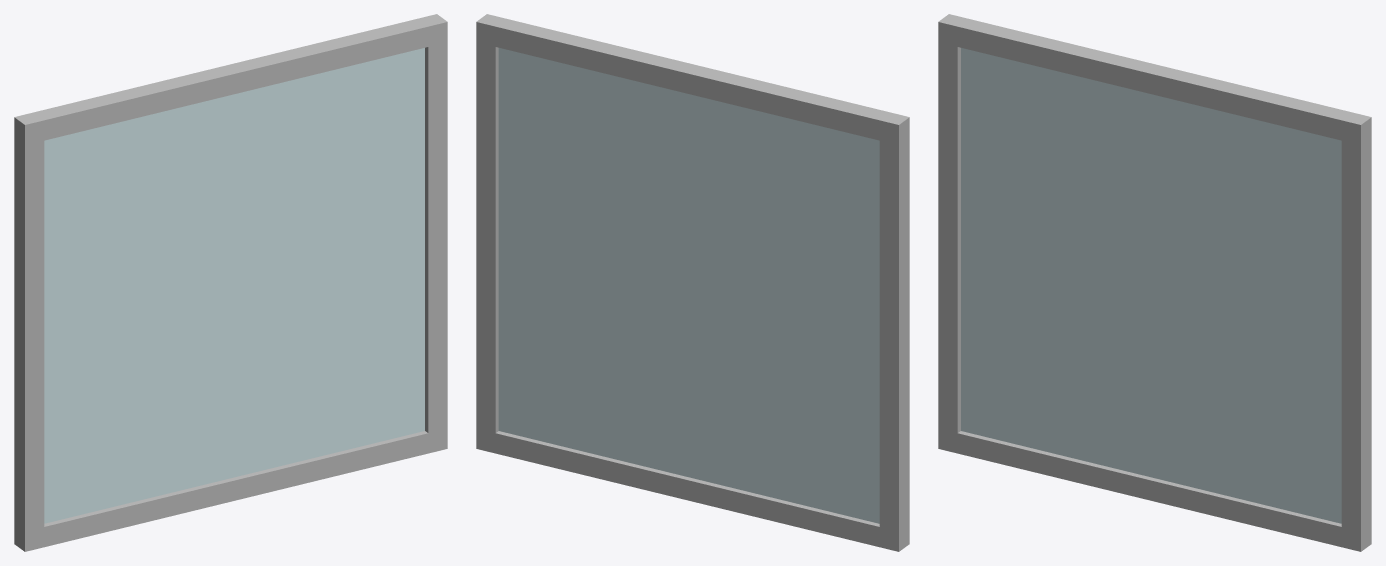
File: Itr_Obj_Grandfatherclock2_Glass_Small_06.FBX
3 views of the same model, side by side, from view 1: azimuth 30°, elevation 25°; view 2: azimuth 150°, elevation 25°; view 3: azimuth 330°, elevation 25° (orthographic).
Visible parts, largest first — view 1: Itr_Obj_Grandfatherclock2_Glass_Small_06; view 2: Itr_Obj_Grandfatherclock2_Glass_Small_06; view 3: Itr_Obj_Grandfatherclock2_Glass_Small_06.
Boxes of the visible parts, x1,y1,x2,y2 form: Itr_Obj_Grandfatherclock2_Glass_Small_06: (14,14,447,551); Itr_Obj_Grandfatherclock2_Glass_Small_06: (476,14,909,551); Itr_Obj_Grandfatherclock2_Glass_Small_06: (938,14,1371,551).
Size of the model in its own units: 15.68 by 15.13 by 0.694.
